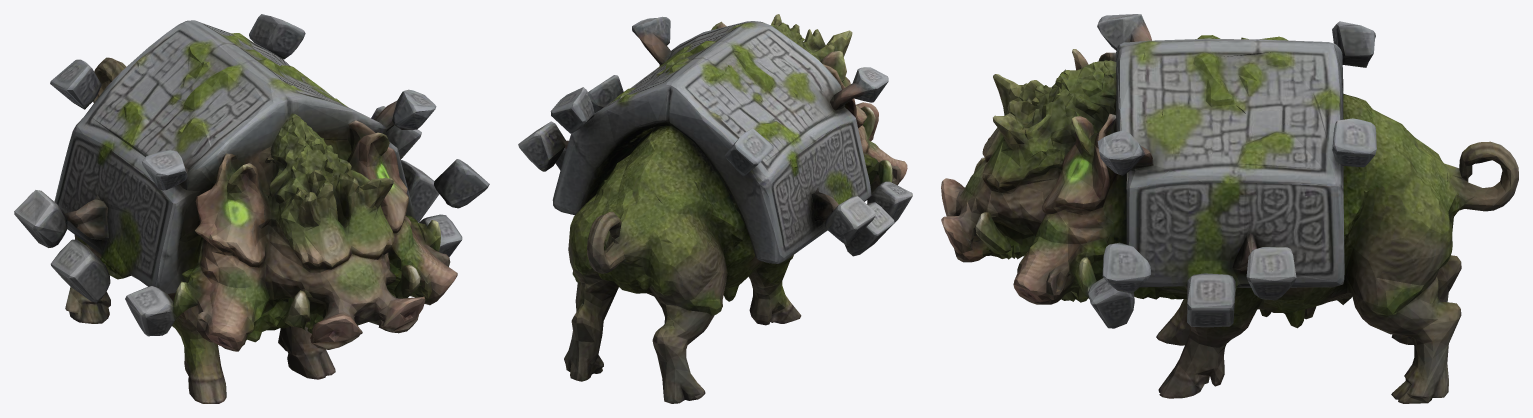
File: mossmaw__mossguard.glb
3 renders of one model, left to right at view 1: azimuth 30°, elevation 25°; view 2: azimuth 150°, elevation 25°; view 3: azimuth 270°, elevation 25°, orthographic. The views are drawn at different scales.
Parts seen in each view (by area): view 1: world; view 2: world; view 3: world.
Boxes of the visible parts, x1,y1,x2,y2 form: world: [14, 14, 489, 403]; world: [518, 14, 912, 403]; world: [941, 14, 1518, 403].
Size of the model in its own units: 0.805 by 0.6232 by 1.
1 material, 1 textured.
